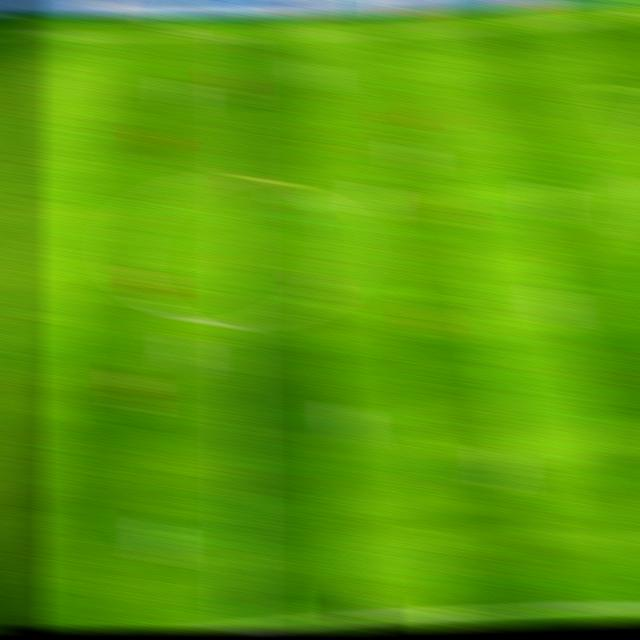bigarea_top_inner: (592, 84, 627, 101)
halfcircle_bottom: (220, 316, 256, 333)
halfcircle_top: (219, 170, 255, 187)
midline_bottom_intersection: (222, 616, 257, 632)
midline_top_intersection: (218, 26, 252, 46)
top_arc_area_intersection: (628, 156, 640, 184)
